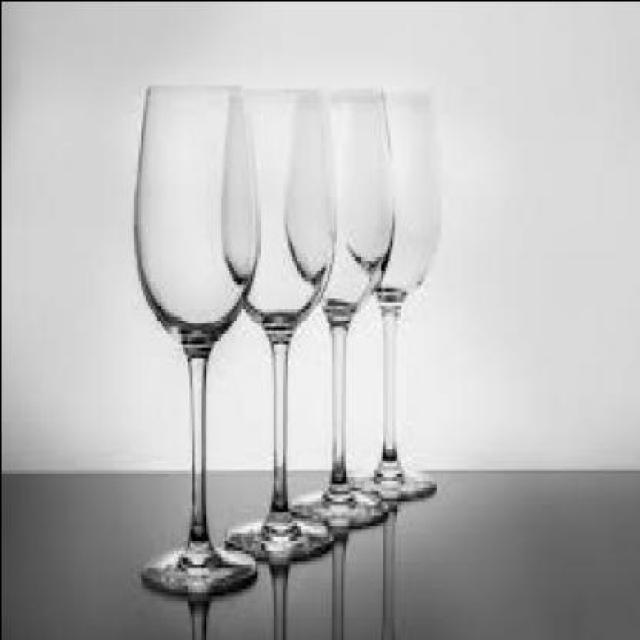glass: (131, 80, 252, 591), (218, 85, 328, 560), (280, 84, 385, 522), (346, 81, 436, 497)
